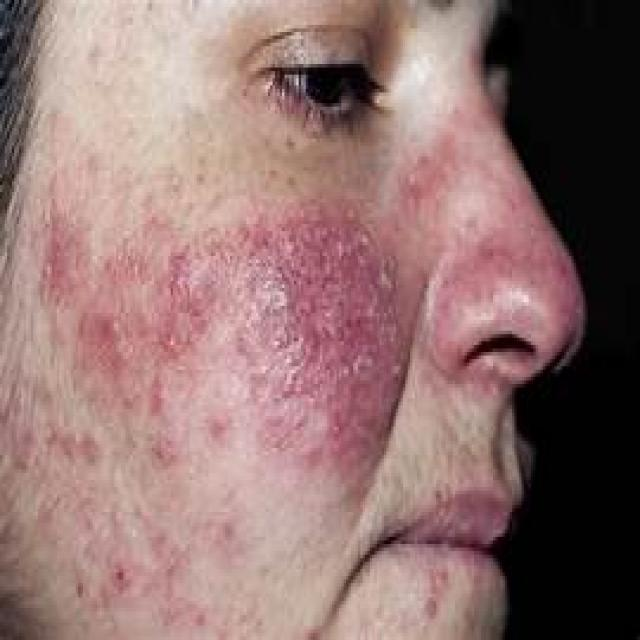Rosacea: (36, 213, 204, 462), (209, 214, 395, 433)
